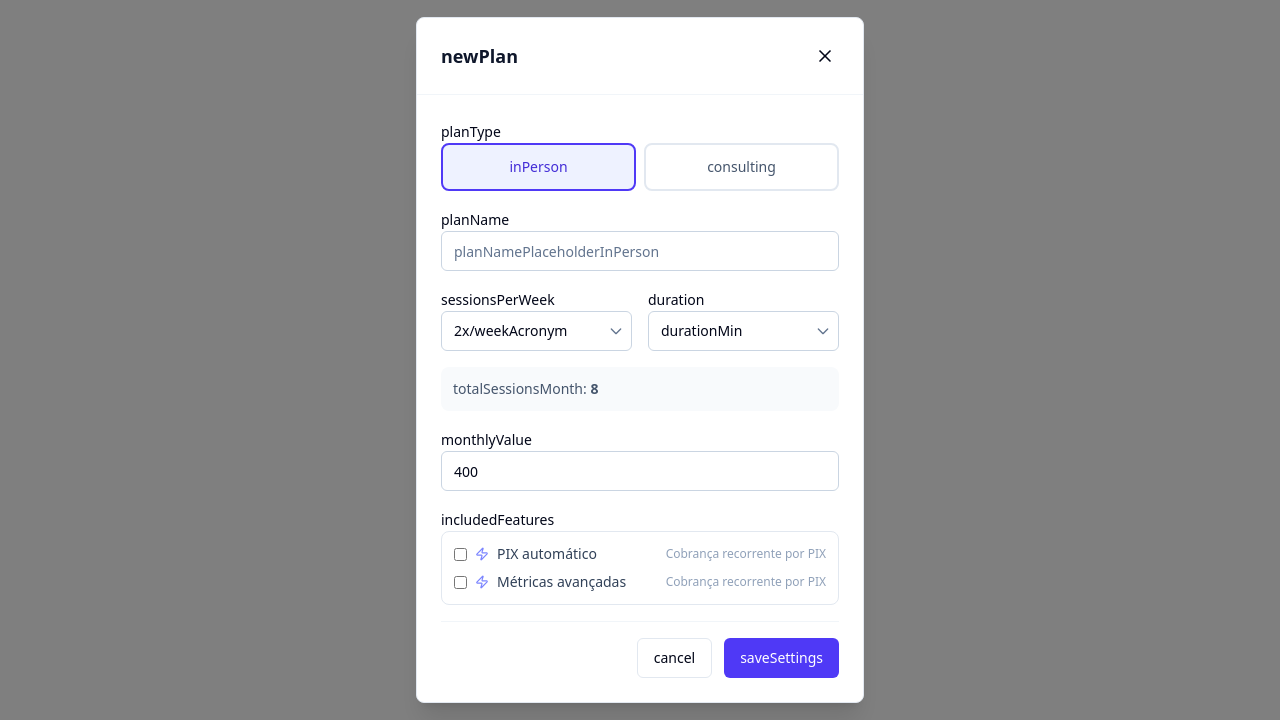
Scenario: PlanEditorModal › duration field only shown for PRESENCIAL
Expected: the dropdown labelled "duration" is shown, [648,311,839,351]
Note: Switch to CONSULTORIA
Click the button "consulting" at (742, 167), box [644,143,839,191]
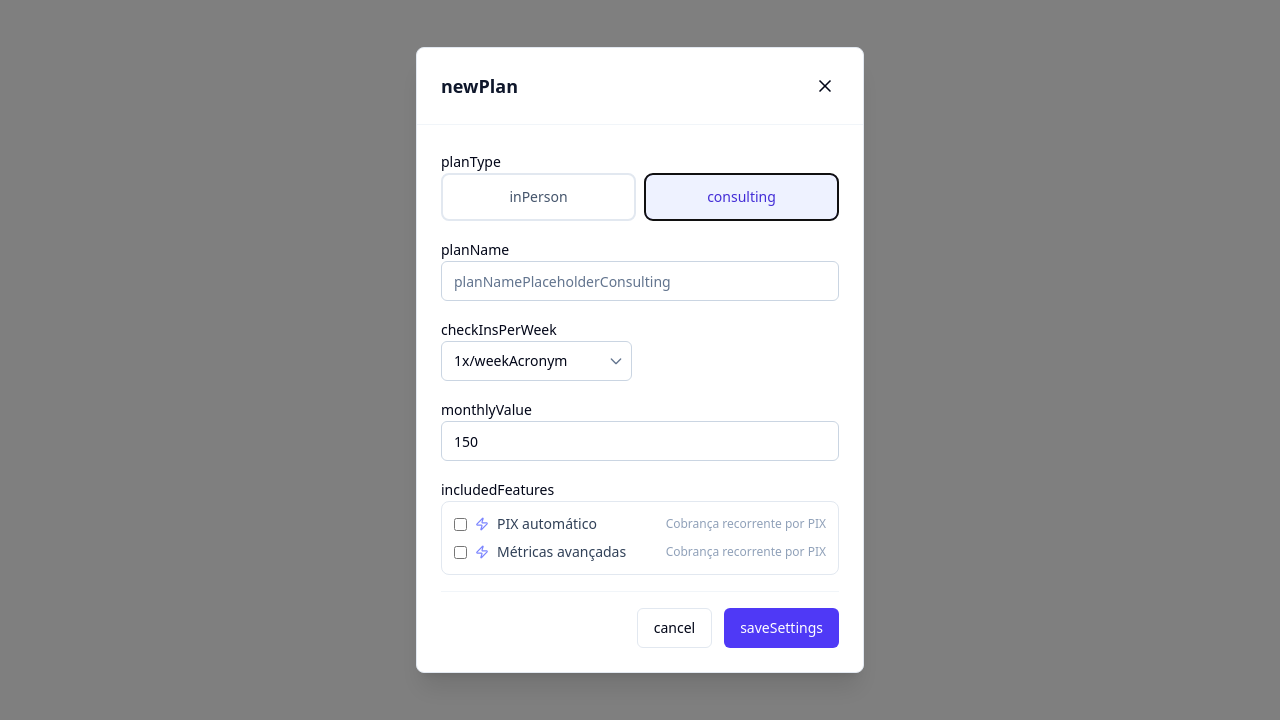
Result: the label labelled "duration" is gone
